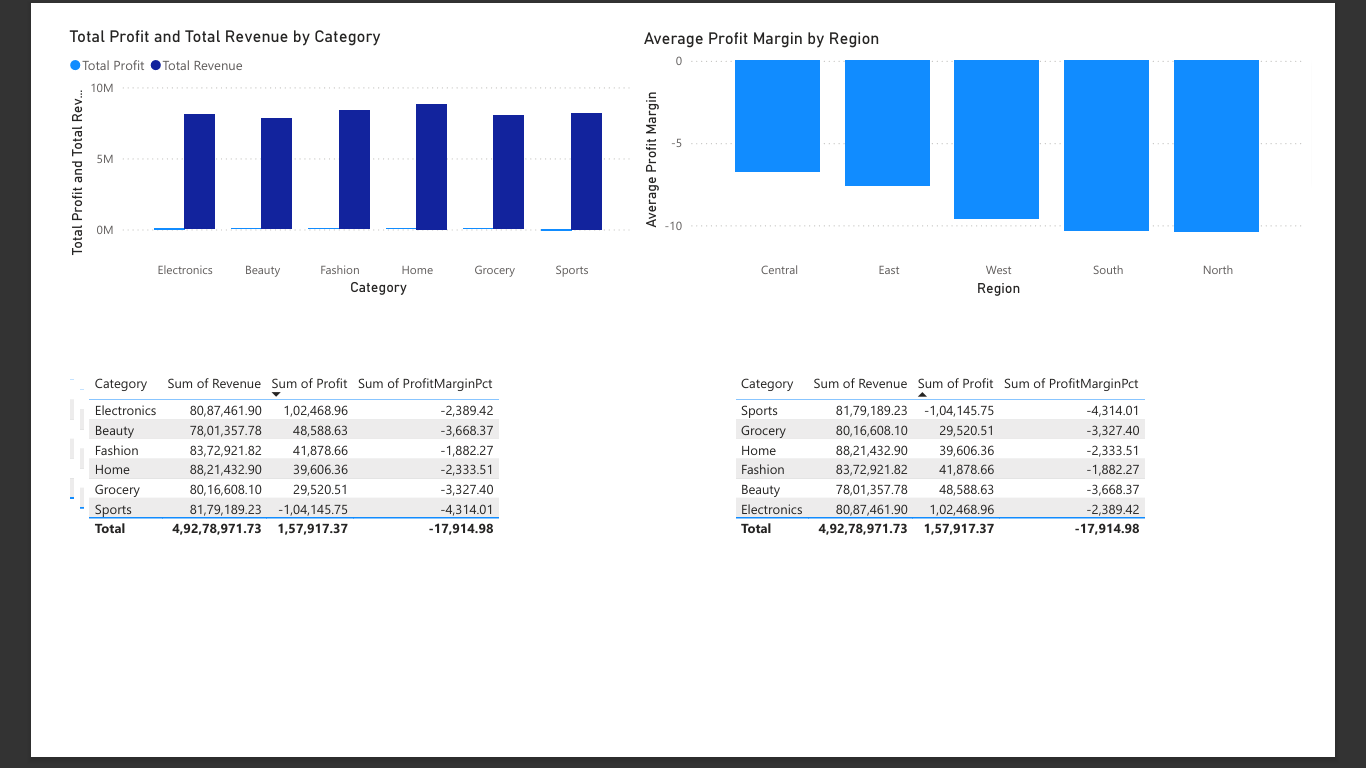

Layout of this report page (visuals, bound fields, positions):
{"tool":"powerbi","page":{"name":"PROFITIBILITY INTELLIGENCE","canvas":[1280,720],"ordinal":3},"visuals":[{"type":"clusteredColumnChart","fields":{"Category":["clean_transactions.Category"],"Y":["clean_transactions.Total Profit","clean_transactions.Total Revenue"]},"box":[10.3,0,584.5,279.3],"z":0},{"type":"columnChart","fields":{"Category":["clean_transactions.Region"],"Y":["clean_transactions.Average Profit Margin"]},"box":[594.8,1.7,684.5,277.6],"z":1},{"type":"tableEx","fields":{"Values":["clean_transactions.Category","Sum(clean_transactions.Revenue)","Sum(clean_transactions.Profit)","Sum(clean_transactions.ProfitMarginPct)"]},"box":[10.3,327.6,537.9,191.4],"z":2},{"type":"tableEx","fields":{"Values":["clean_transactions.Category","Sum(clean_transactions.Revenue)","Sum(clean_transactions.Profit)","Sum(clean_transactions.ProfitMarginPct)"]},"box":[20.3,337.6,537.9,191.4],"z":3},{"type":"tableEx","fields":{"Values":["clean_transactions.Category","Sum(clean_transactions.Revenue)","Sum(clean_transactions.Profit)","Sum(clean_transactions.ProfitMarginPct)"]},"box":[30.3,347.6,537.9,191.4],"z":4},{"type":"tableEx","fields":{"Values":["clean_transactions.Category","Sum(clean_transactions.Revenue)","Sum(clean_transactions.Profit)","Sum(clean_transactions.ProfitMarginPct)"]},"box":[687.9,348.3,537.9,272.4],"z":5}]}

Visuals, with their boxes in screenshot pixels (x1, y1, x2, y2), scaled from the page's 1280x720 canvas onto the 1366x768 screenshot:
clusteredColumnChart - clean_transactions.Category x clean_transactions.Total Profit: locate(11, 0, 635, 298)
columnChart - clean_transactions.Region x clean_transactions.Average Profit Margin: locate(635, 2, 1365, 298)
tableEx - clean_transactions.Category x Sum(clean_transactions.Revenue): locate(11, 349, 585, 554)
tableEx - clean_transactions.Category x Sum(clean_transactions.Revenue): locate(22, 360, 596, 564)
tableEx - clean_transactions.Category x Sum(clean_transactions.Revenue): locate(32, 371, 606, 575)
tableEx - clean_transactions.Category x Sum(clean_transactions.Revenue): locate(734, 372, 1308, 662)
